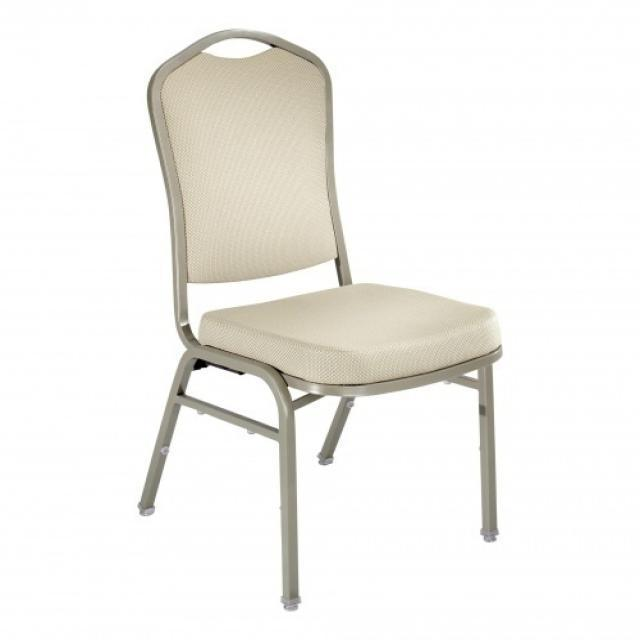chair: (139, 29, 507, 612)
